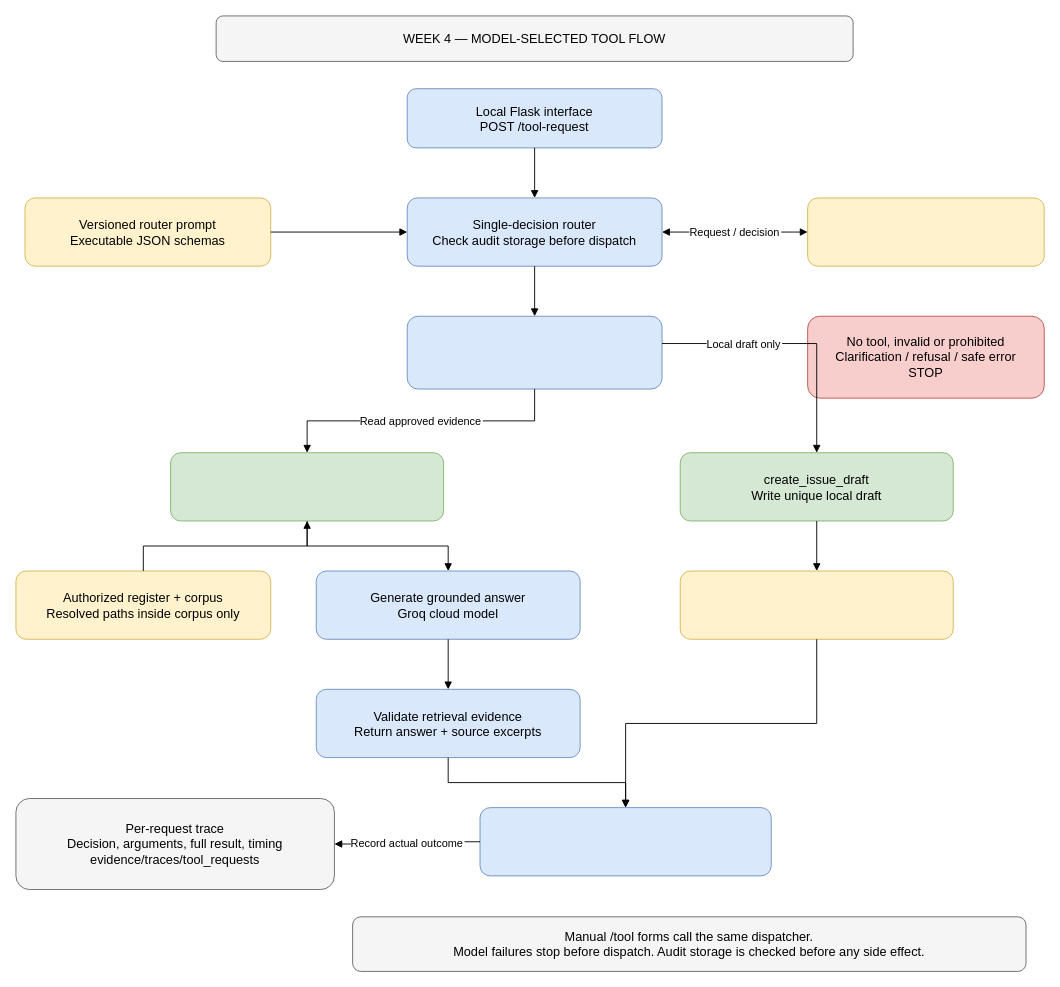
The diagram is 1060 pixels wide and 987 high, and some of its shapes have lost their labels. The shapes that lost their labels are listed below. From the top down, each one's centre as x and y in pixels, then its label:
At pixel 925 231: "Groq / qwen/qwen3.8-27b JSON decision; validate in app Cloud request boundary".
At pixel 534 352: "Deterministic validation Decision, tool allow-list, arguments".
At pixel 307 486: "retrieve_project_evidence Registered-document retrieval".
At pixel 816 604: "evidence/drafts status=draft; submitted=false".
At pixel 625 841: "Display actual tool result Return to developer; STOP".
